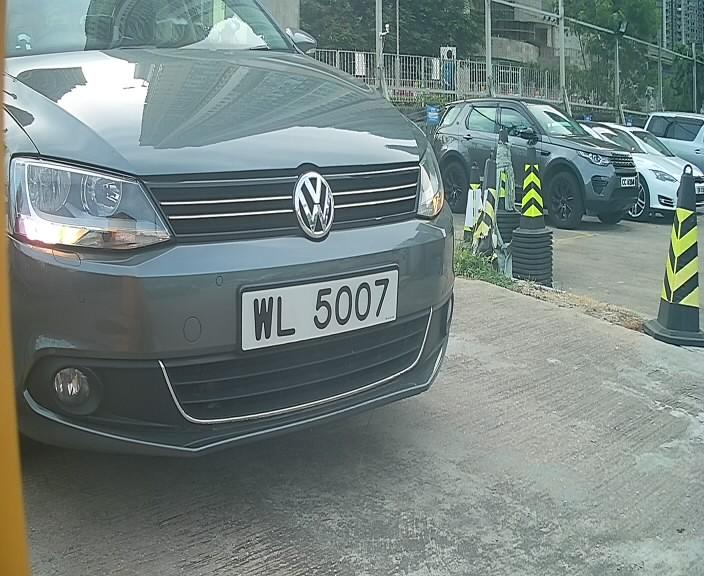License Plate: (233, 265, 406, 350)
